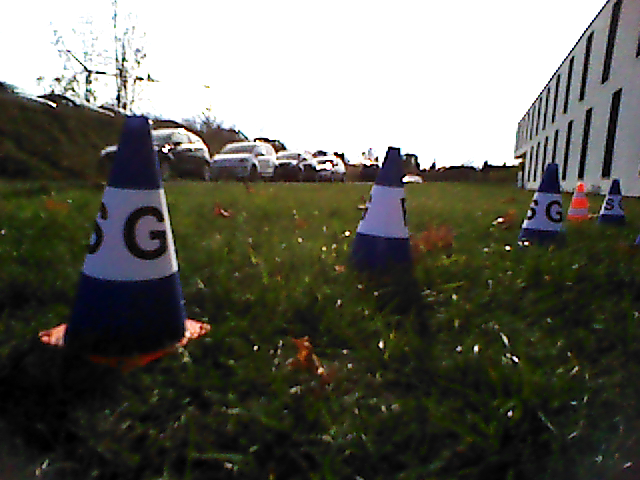bluecone: (68, 118, 186, 343), (352, 147, 413, 272), (520, 164, 565, 244), (600, 179, 626, 224)
orangeconesmall: (568, 183, 592, 220)
